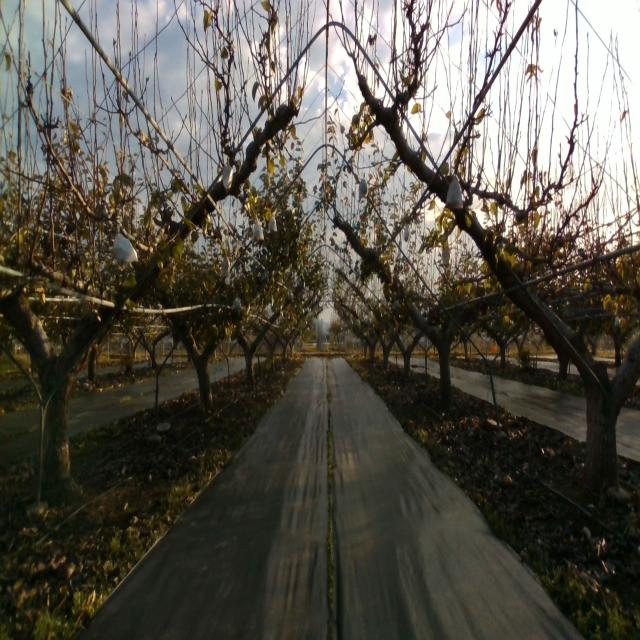pearbags: (114, 223, 138, 264), (444, 176, 464, 210), (222, 156, 234, 190), (252, 217, 264, 243), (358, 172, 368, 200)
